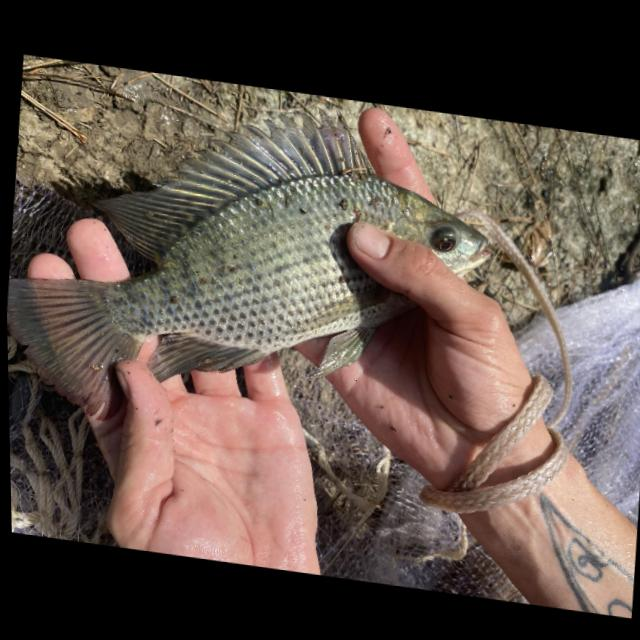Tilapia: (1, 66, 508, 477)
